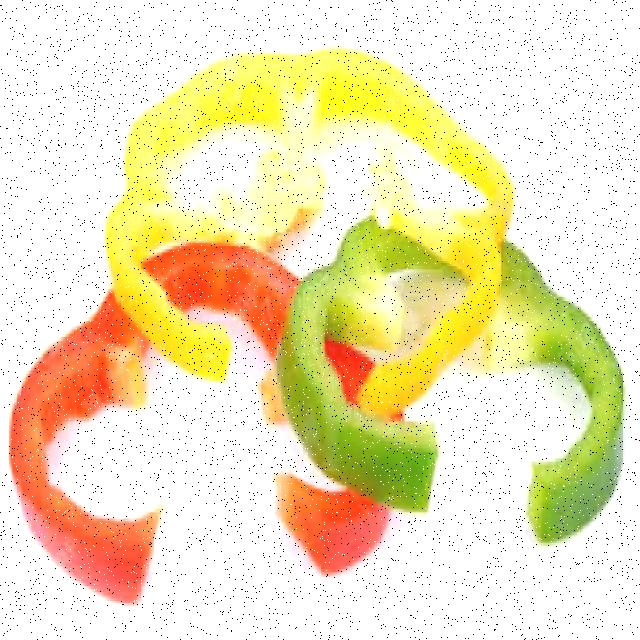Bell Pepper: (88, 0, 514, 418), (270, 210, 632, 544)
